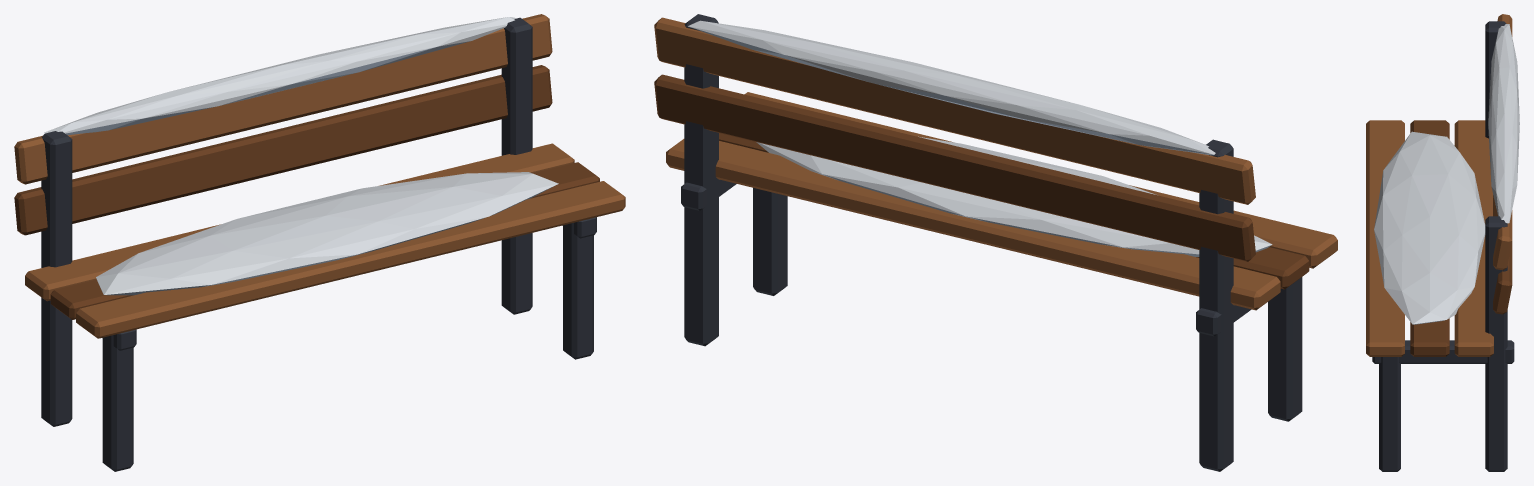
The model's file is Bench_Snowy.glb.
3 views of the same model, side by side, from view 1: azimuth 30°, elevation 25°; view 2: azimuth 150°, elevation 25°; view 3: azimuth 270°, elevation 25° (orthographic). The views are drawn at different scales.
Parts seen in each view (by area): view 1: Bench_Snowy; view 2: Bench_Snowy; view 3: Bench_Snowy.
Part boxes in pixels (x1,y1,x2,y2): Bench_Snowy: (14, 14, 625, 471); Bench_Snowy: (654, 14, 1337, 471); Bench_Snowy: (1366, 14, 1519, 471).
Bounding box in the file's own units: 6 × 3.21 × 1.73.
